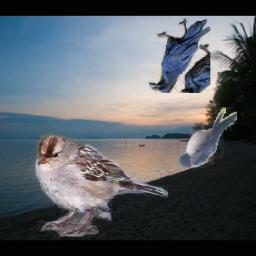Crow: (148, 18, 210, 93)
Sparrow: (30, 133, 168, 237)
Swallow: (179, 108, 237, 168)
